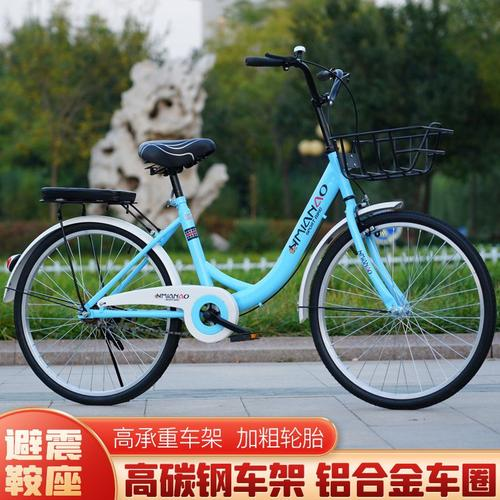单车: (6, 29, 499, 410)
